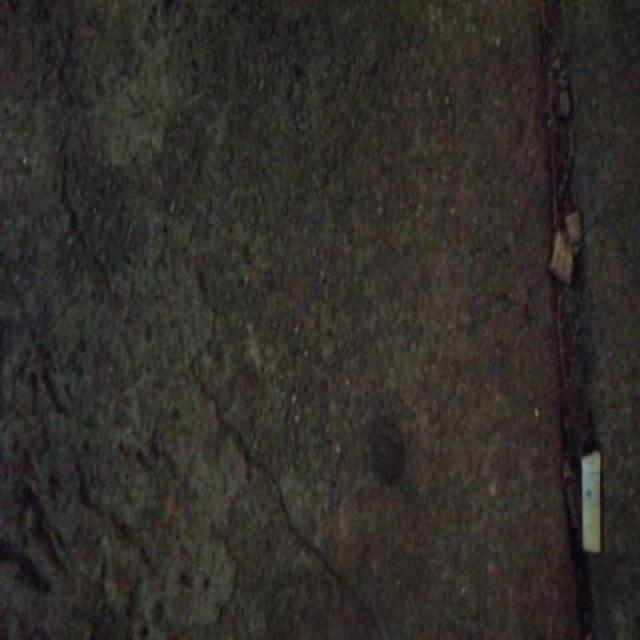non-organic waste: (579, 447, 605, 556)
